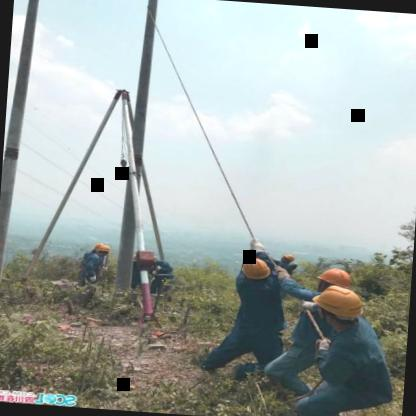helmet: (315, 286, 364, 326), (314, 260, 357, 292), (235, 255, 276, 287), (90, 242, 116, 260), (274, 250, 298, 268)
